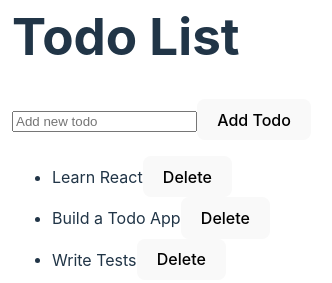
Test: deletes a todo
Click the button "Delete" next to "Learn React" at (187,177), box [143,156,232,198]
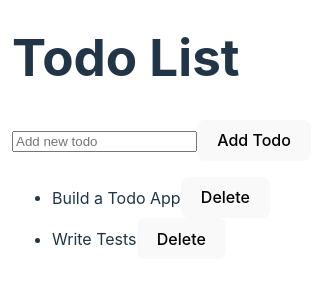
Expected: the text "Learn React" is gone
